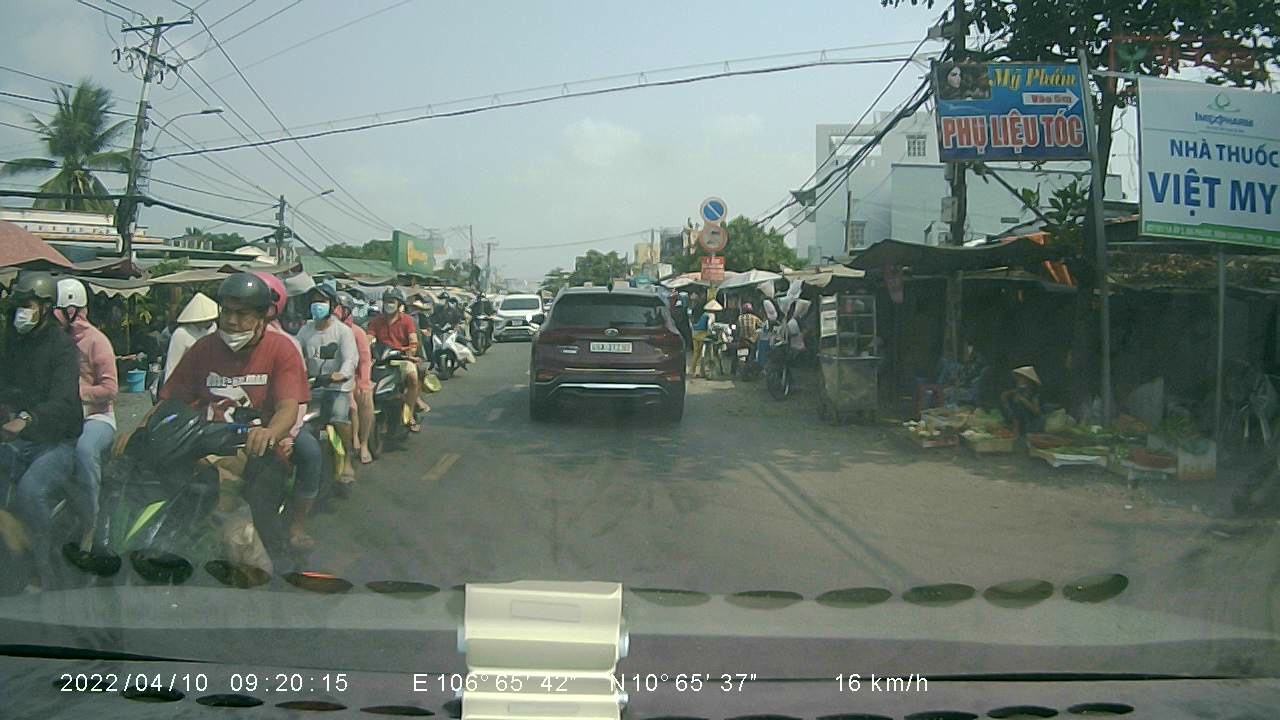Bien khac: (698, 223, 730, 253)
Cam do xe: (698, 195, 730, 225)
